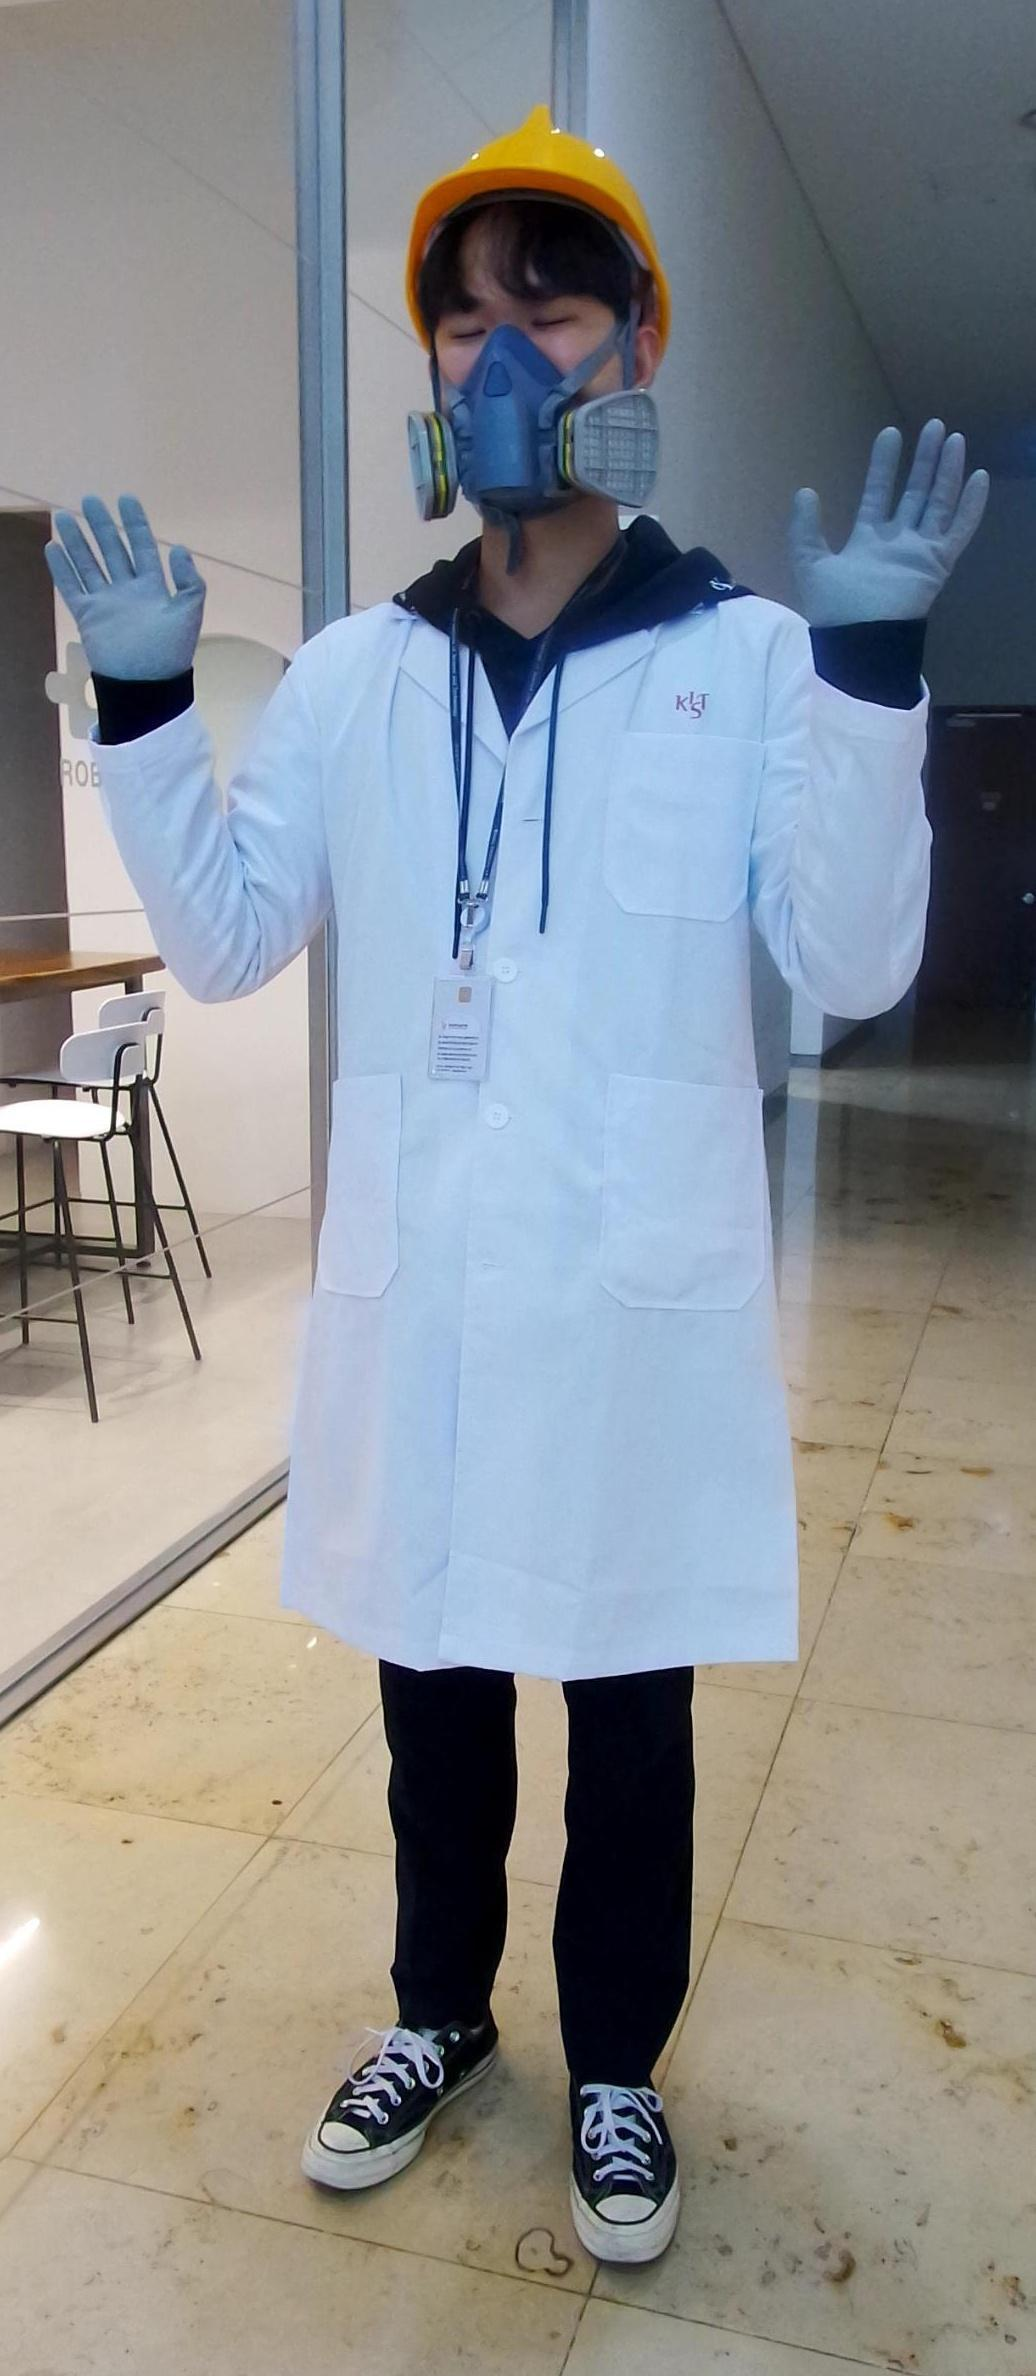lab_coat: (274, 591, 791, 1655)
